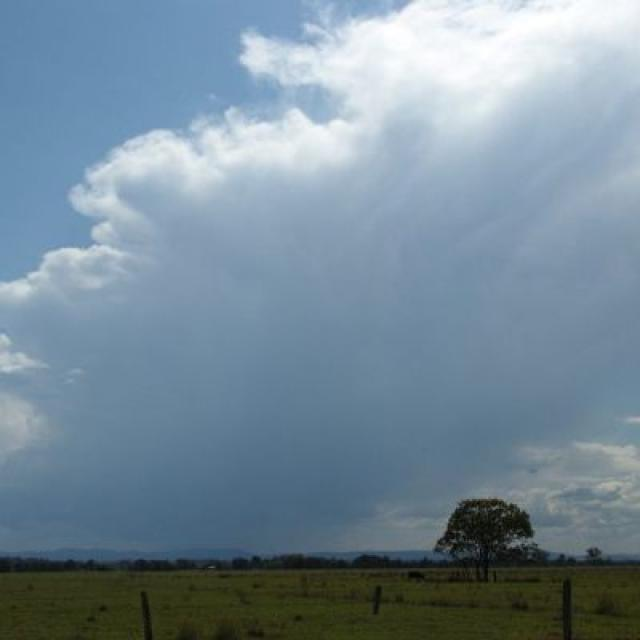Cb: (1, 23, 640, 396)
